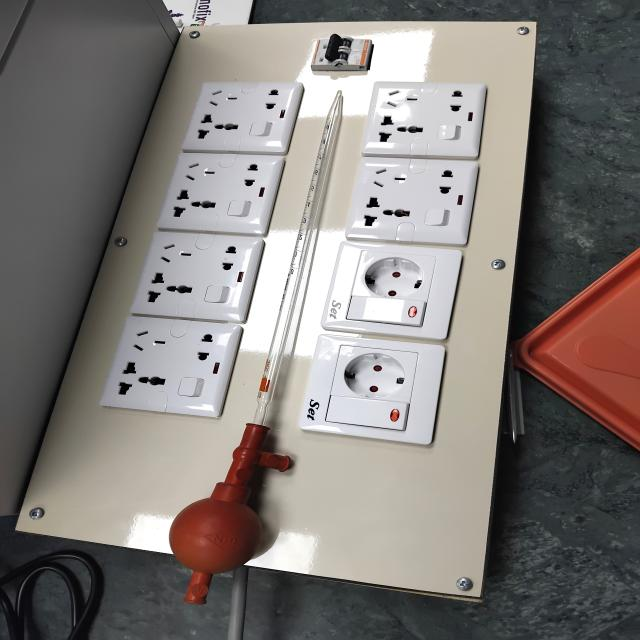Volumetric_Pipet: (120, 71, 414, 637)
